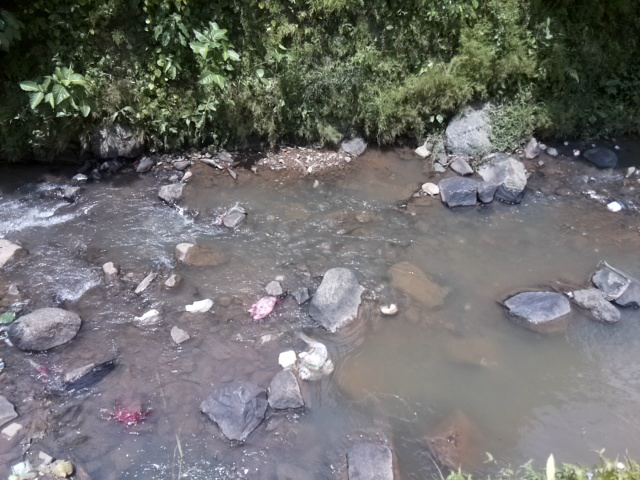Sampah_Plastik: (303, 339, 333, 380), (250, 295, 280, 322), (113, 406, 147, 425)
Sampah_Styrofoam: (275, 350, 298, 369), (185, 299, 214, 312), (608, 200, 622, 212)
